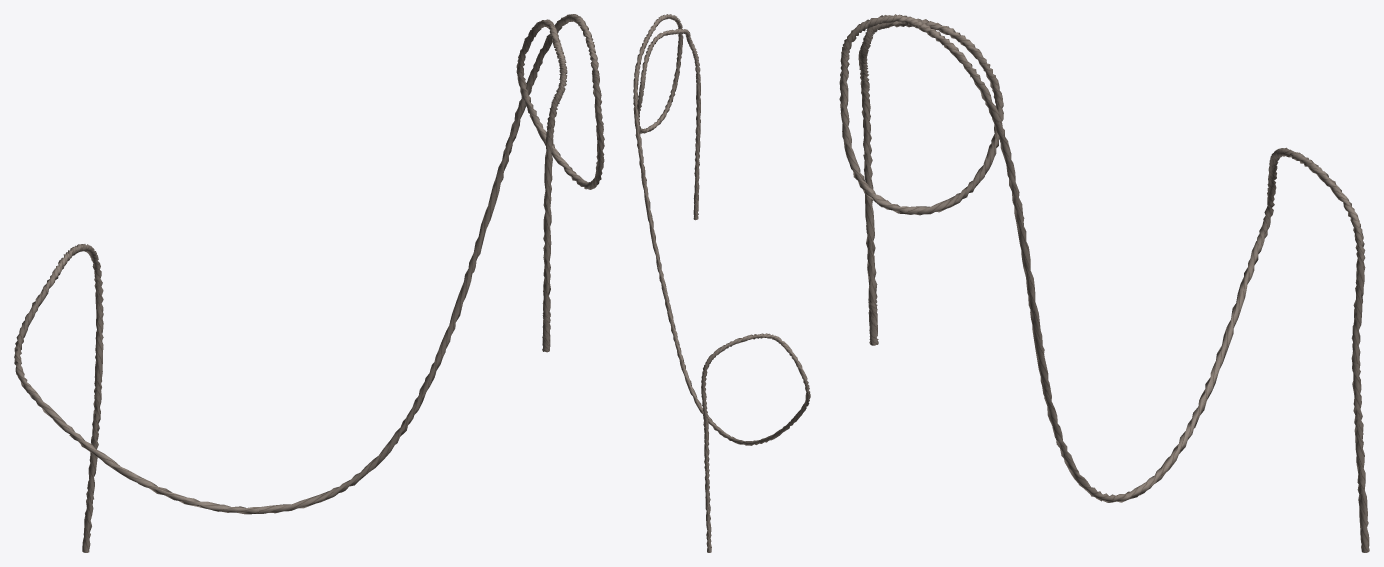
Rendered from SM_RopeSplineMesh_Splines_17.fbx.
3 views of the same model, side by side, from view 1: azimuth 30°, elevation 25°; view 2: azimuth 150°, elevation 25°; view 3: azimuth 270°, elevation 25° (orthographic). The views are drawn at different scales.
Visible parts, largest first — view 1: SM_RopeSplineMesh_Splines_17; view 2: SM_RopeSplineMesh_Splines_17; view 3: SM_RopeSplineMesh_Splines_17.
Boxes of the visible parts, bbox=[...] form: SM_RopeSplineMesh_Splines_17: bbox=[14, 14, 604, 552]; SM_RopeSplineMesh_Splines_17: bbox=[633, 14, 810, 552]; SM_RopeSplineMesh_Splines_17: bbox=[839, 14, 1369, 552].
Bounding box in the file's own units: 145 × 145 × 209.
